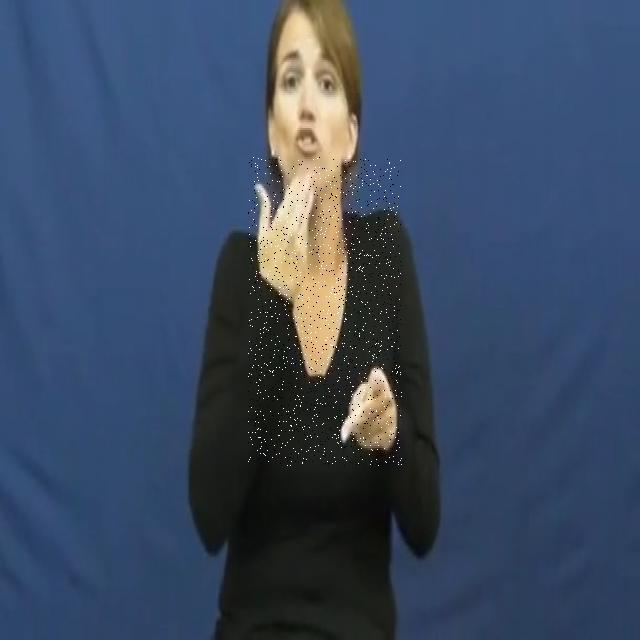lactose: (248, 157, 402, 466)
